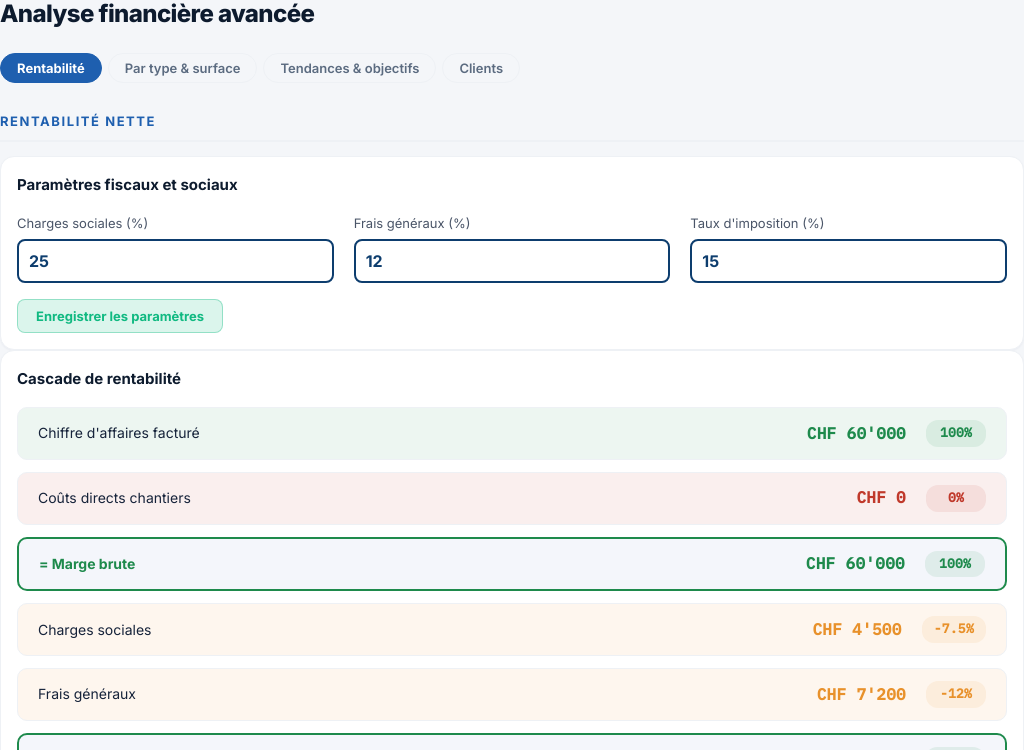
Scenario: OBJECTIFS — saisie + progression + rentabilité vue d'ensemble › affiche la saisie, les barres de progression et la vue d'ensemble
The image size is (1024, 750).
What coordinates should you click on to do the following:
click the button "Tendances & objectifs"
I would click on:
 (350, 68)
Its box is [263,53,436,83].
(page scrolled)
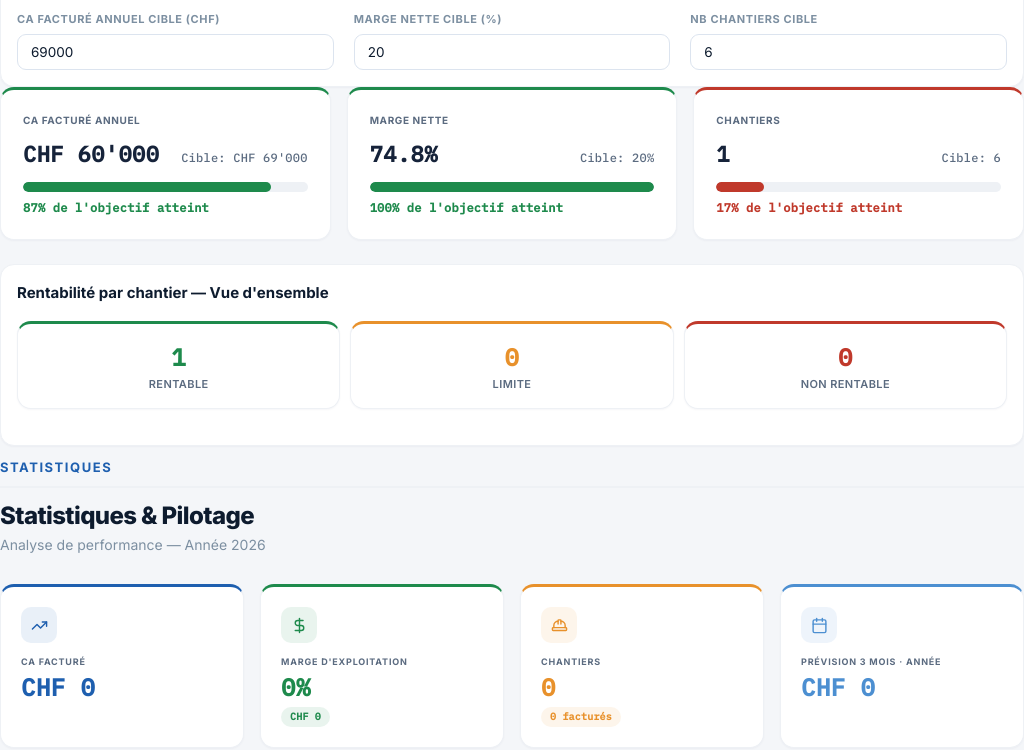
Expected: the text "Rentabilité par chantier — Vue d'ensemble" is shown, [17,283,329,302]
Expected: the text "Rentable" is shown, [149,377,209,391]
